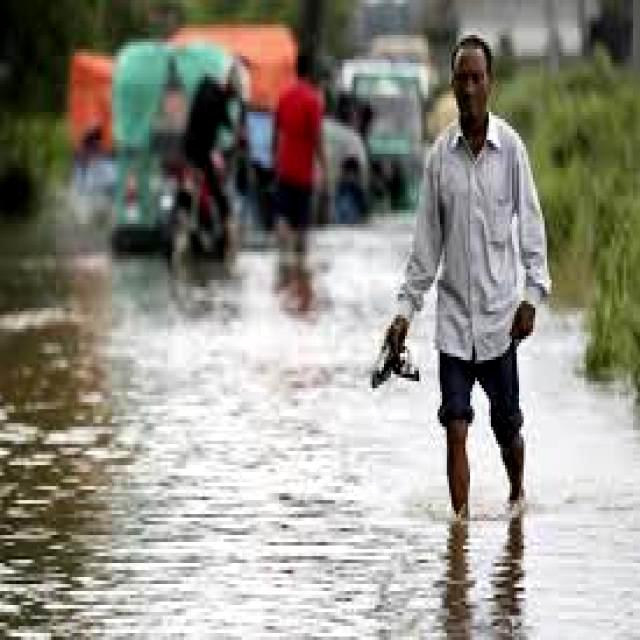civilian: (364, 34, 566, 524), (263, 53, 331, 258)
